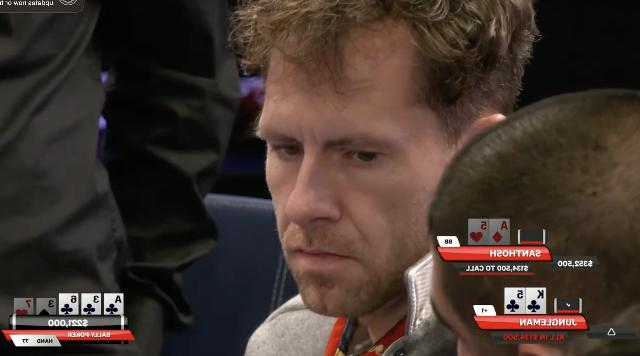3C: (82, 294, 100, 314)
3S: (37, 299, 55, 315)
5C: (506, 288, 524, 314)
5H: (470, 220, 488, 244)
6C: (60, 295, 76, 315)
7H: (15, 299, 33, 315)
AC: (105, 294, 123, 314)
AD: (491, 220, 509, 244)
KC: (527, 288, 545, 314)
